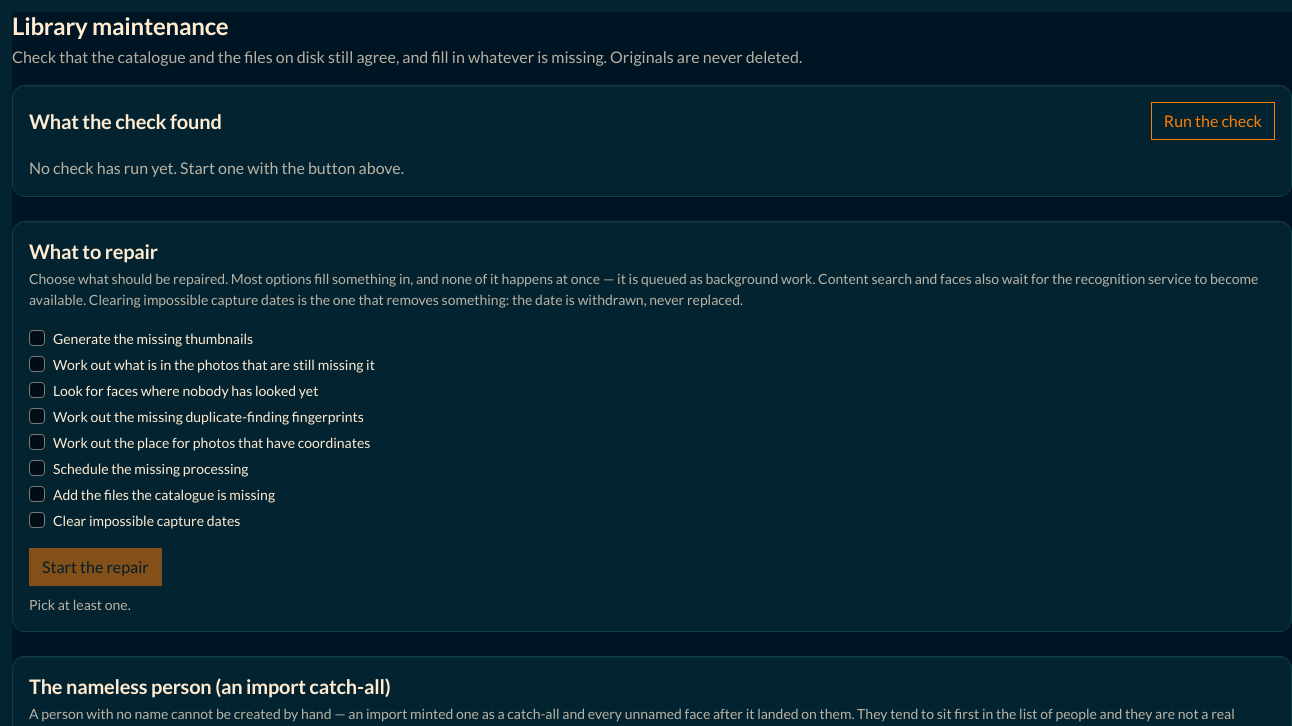
MaintenancePage › reports a clean library when the scan finds no problems
Click the button "Run the check" at (1213, 121), box 1151,102 -> 1275,140
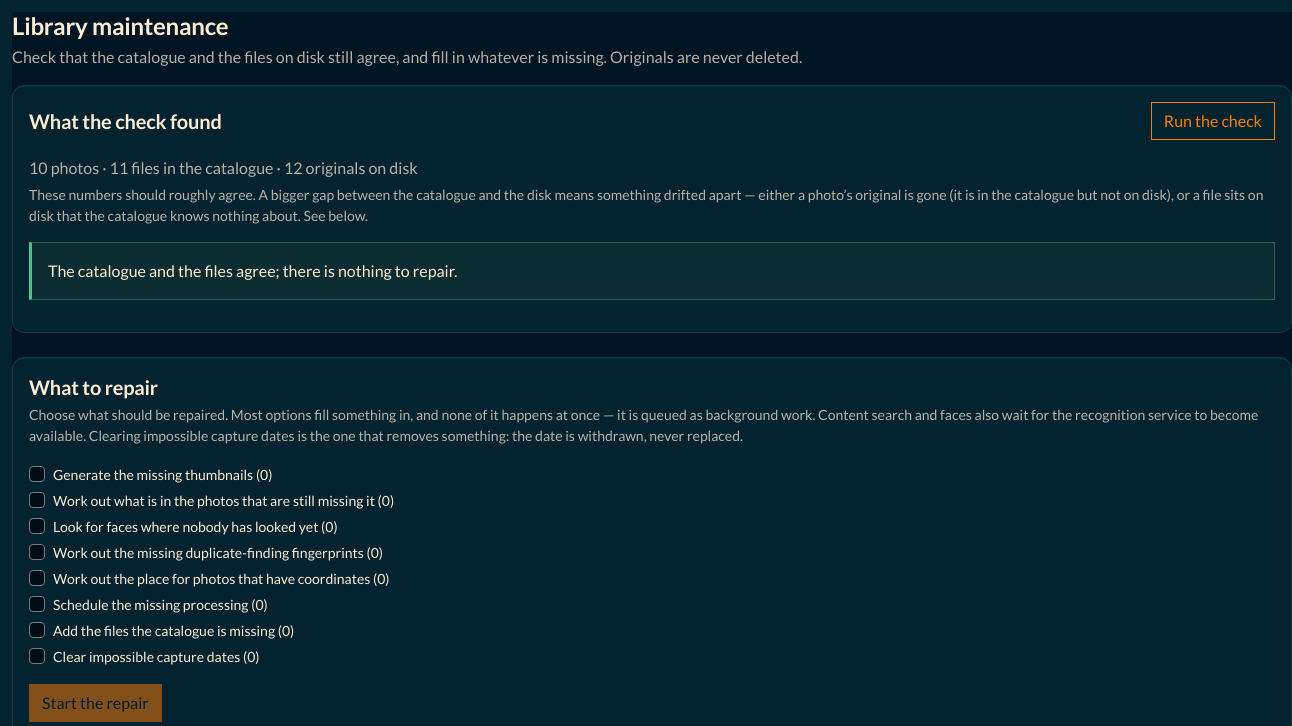
Result: the text "The catalogue and the files agree; there is nothing to repair." is shown at 29,242 -> 1275,300
